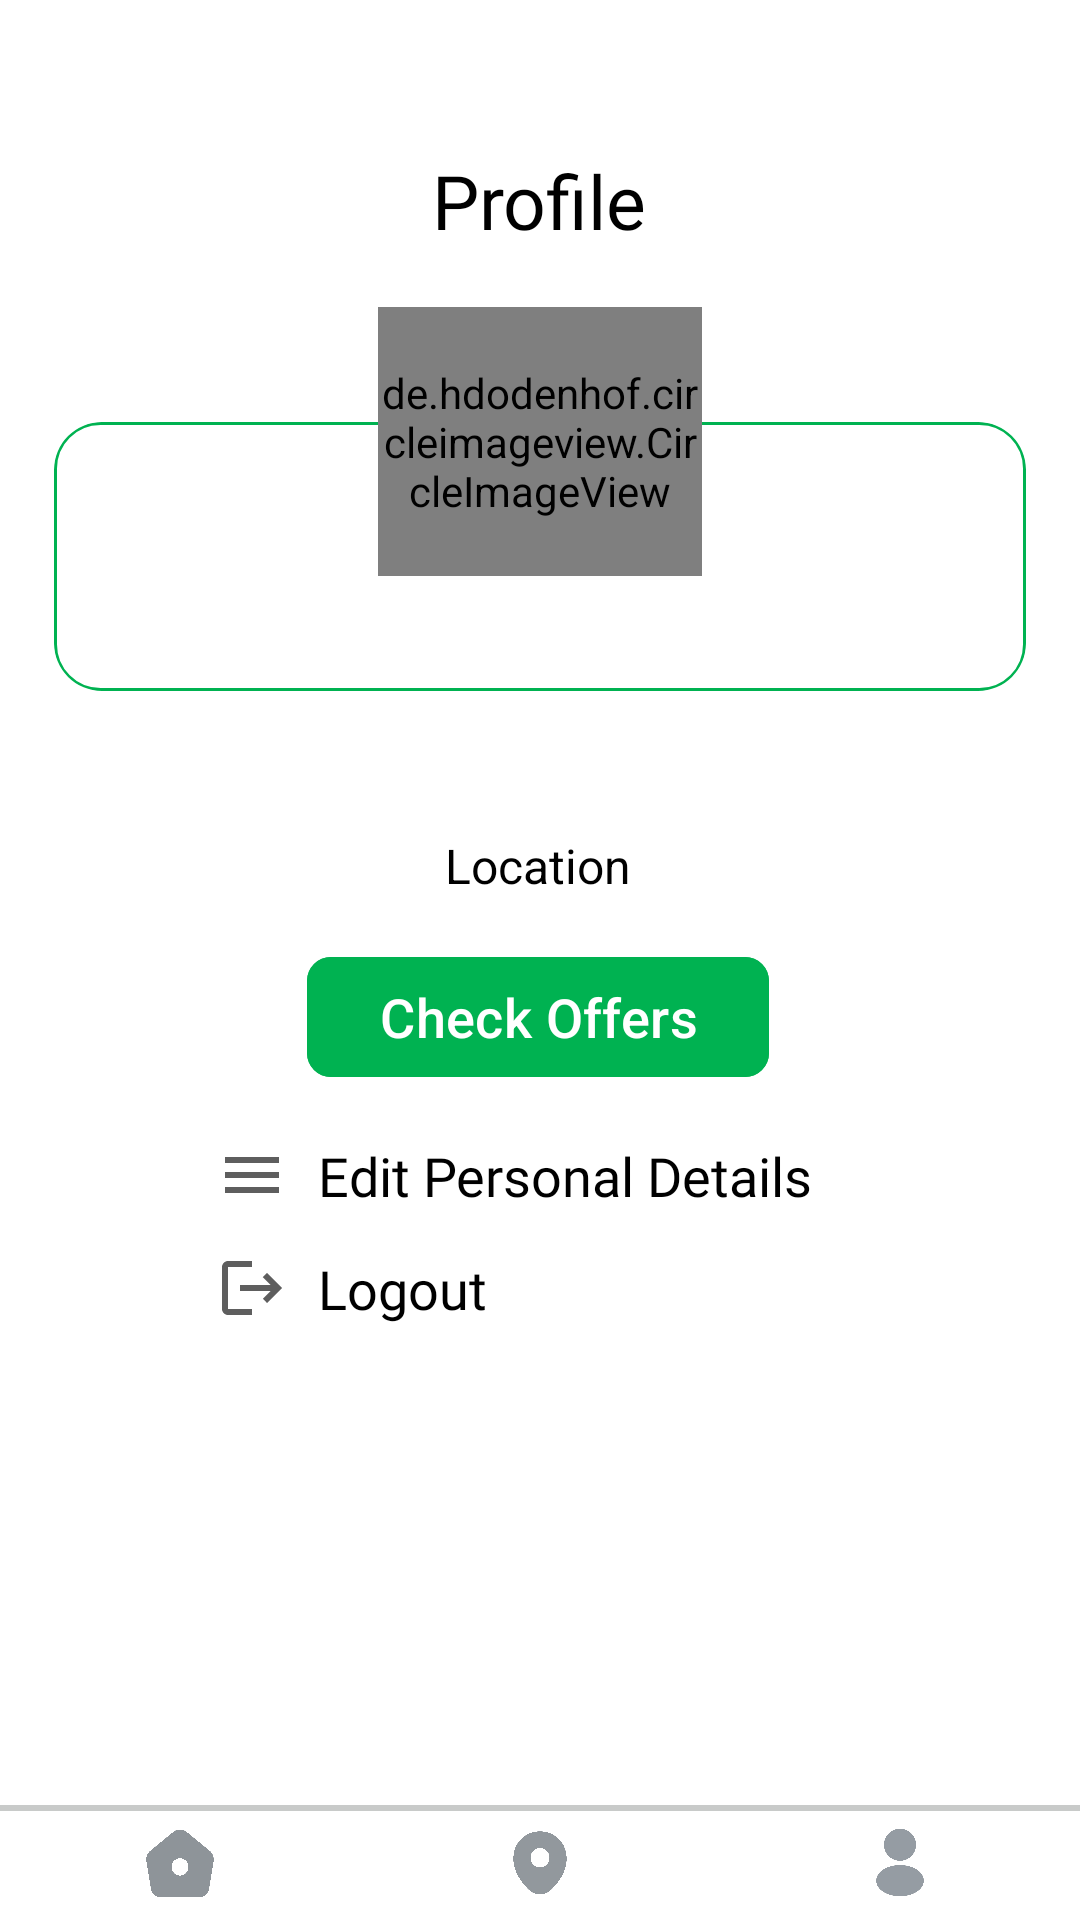

Named icons in this screenshot (1080px x 1920px) and their centers, (x,y):
location: (540,1862)
